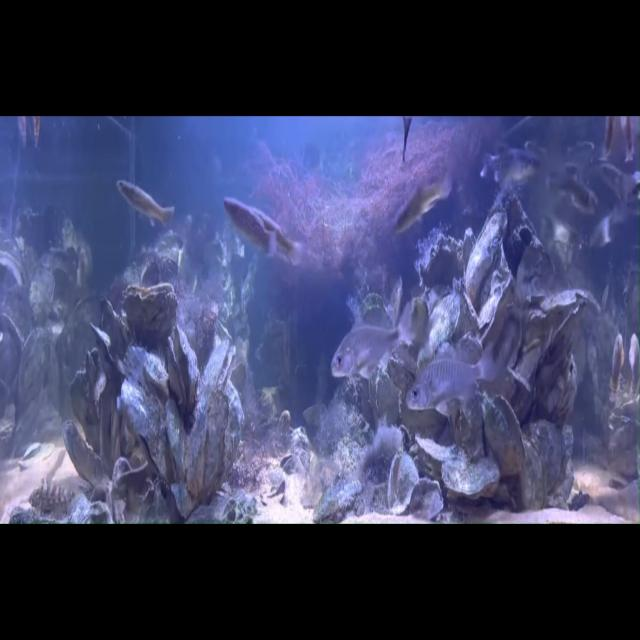Oyster-Closed: (106, 370, 197, 486), (39, 288, 118, 389), (178, 385, 238, 507), (452, 204, 516, 304), (526, 414, 586, 509), (413, 285, 468, 374), (116, 339, 184, 404), (11, 324, 54, 416), (437, 449, 503, 505), (123, 285, 182, 347), (310, 469, 365, 535), (215, 379, 247, 490), (65, 368, 105, 456), (83, 323, 135, 388), (111, 458, 163, 522), (539, 336, 578, 419), (91, 295, 139, 362), (535, 275, 591, 332), (403, 433, 461, 486), (501, 191, 536, 277), (357, 272, 406, 331), (514, 307, 551, 384), (24, 263, 58, 327), (166, 399, 190, 479), (449, 283, 480, 340), (520, 438, 544, 509), (0, 313, 23, 387)
Oyster-Open: (475, 387, 531, 480), (382, 449, 424, 519), (168, 324, 199, 416), (200, 336, 235, 392), (384, 343, 423, 389), (0, 249, 25, 292), (227, 365, 255, 400)
